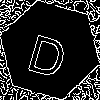D: (25, 25, 72, 79)
